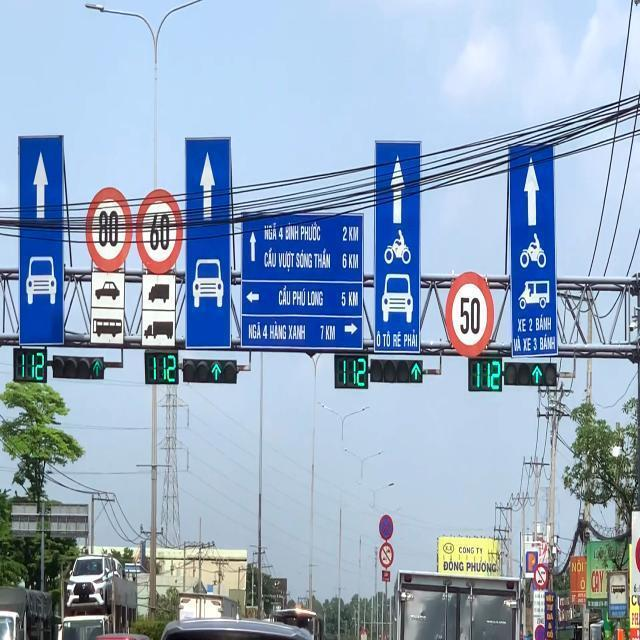127-toc-do-toi-da-50: (441, 271, 497, 359)
127-toc-do-toi-da-60: (136, 186, 184, 274)
127-toc-do-toi-da-80: (84, 186, 132, 272)
130-cam-dung-va-do-xe: (377, 512, 395, 540)
